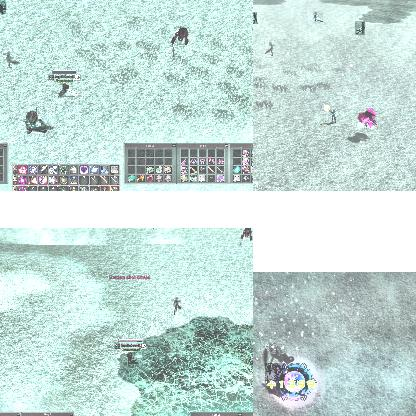caliana: (261, 342, 283, 364), (265, 363, 285, 381), (4, 50, 20, 68), (265, 41, 275, 57), (172, 296, 180, 314), (355, 21, 365, 35), (313, 11, 323, 23), (0, 0, 6, 14), (253, 12, 257, 24)
